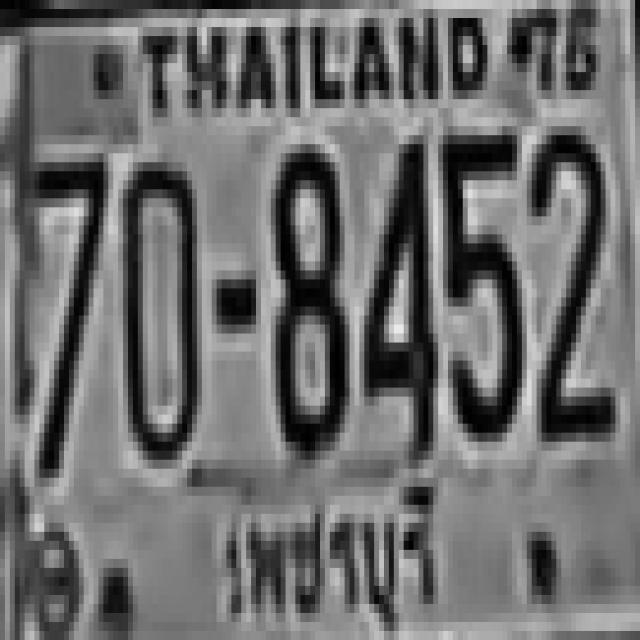0: (120, 153, 200, 451)
2: (529, 117, 608, 433)
4: (359, 131, 434, 446)
5: (438, 126, 517, 433)
7: (24, 153, 104, 469)
8: (270, 135, 344, 451)
Phetchaburi: (217, 468, 444, 634)
